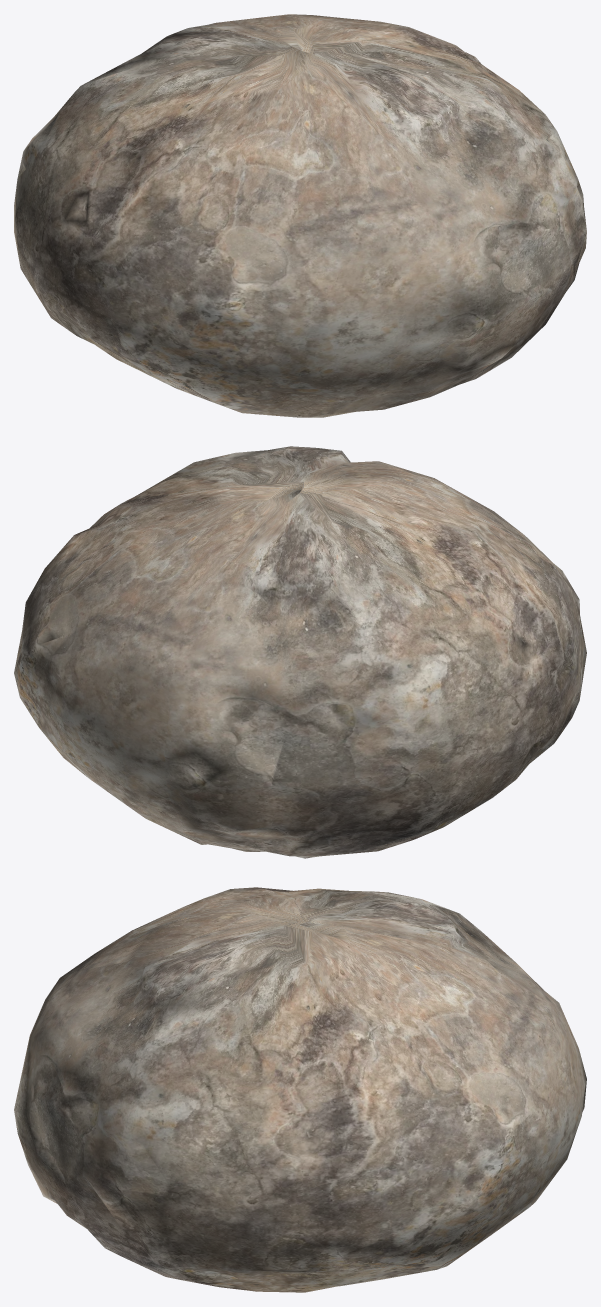
Rendered from pebble-0-mid.glb.
3 views of the same model, one above another, from view 1: azimuth 30°, elevation 25°; view 2: azimuth 150°, elevation 25°; view 3: azimuth 270°, elevation 25° (orthographic).
Visible parts, largest first — view 1: sphere_gltf; view 2: sphere_gltf; view 3: sphere_gltf.
Part boxes in pixels (x1=…): sphere_gltf: x1=14, y1=14, x2=586, y2=417; sphere_gltf: x1=14, y1=446, x2=586, y2=858; sphere_gltf: x1=14, y1=887, x2=586, y2=1292.
Size of the model in its own units: 0.9938 by 0.645 by 0.9987.
1 material, 1 textured.
